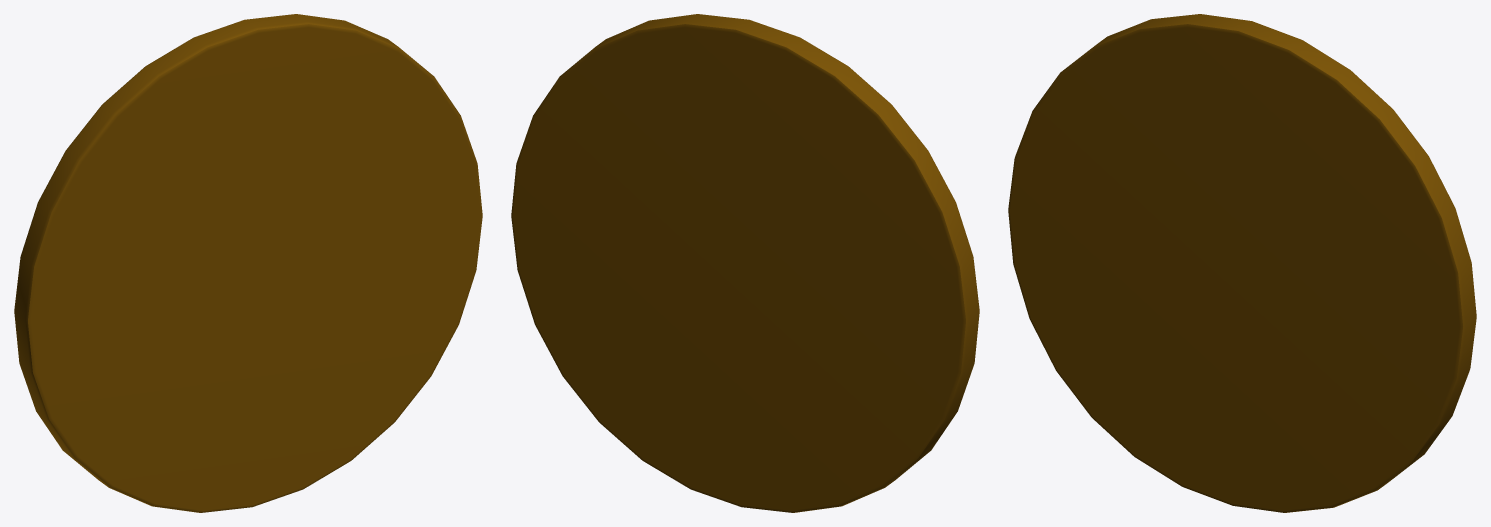
The model's file is Coin.fbx.
3 renders of one model, left to right at view 1: azimuth 30°, elevation 25°; view 2: azimuth 150°, elevation 25°; view 3: azimuth 330°, elevation 25°, orthographic.
Parts seen in each view (by area): view 1: pCylinder3; view 2: pCylinder3; view 3: pCylinder3.
Boxes of the visible parts, x1,y1,x2,y2 form: pCylinder3: (14,14,482,512); pCylinder3: (511,14,979,512); pCylinder3: (1008,14,1476,512).
Size of the model in its own units: 2.39 by 2.39 by 0.135.
